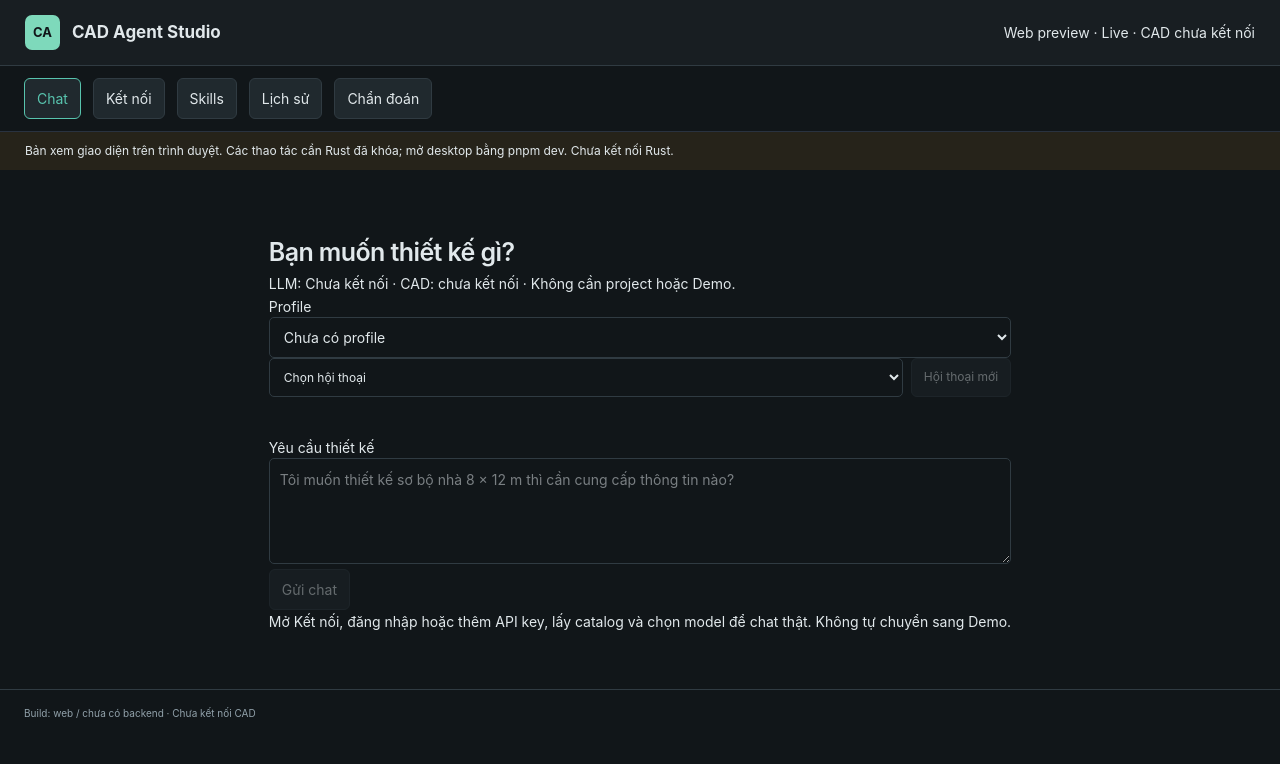
Test: opens connection and diagnostics before project and does not silently enter demo
Expected: the heading "Bạn muốn thiết kế gì?" is shown, x1=269 y1=237 x2=514 y2=267
Click the button "Kết nối": (129, 98) x1=93 y1=78 x2=165 y2=119
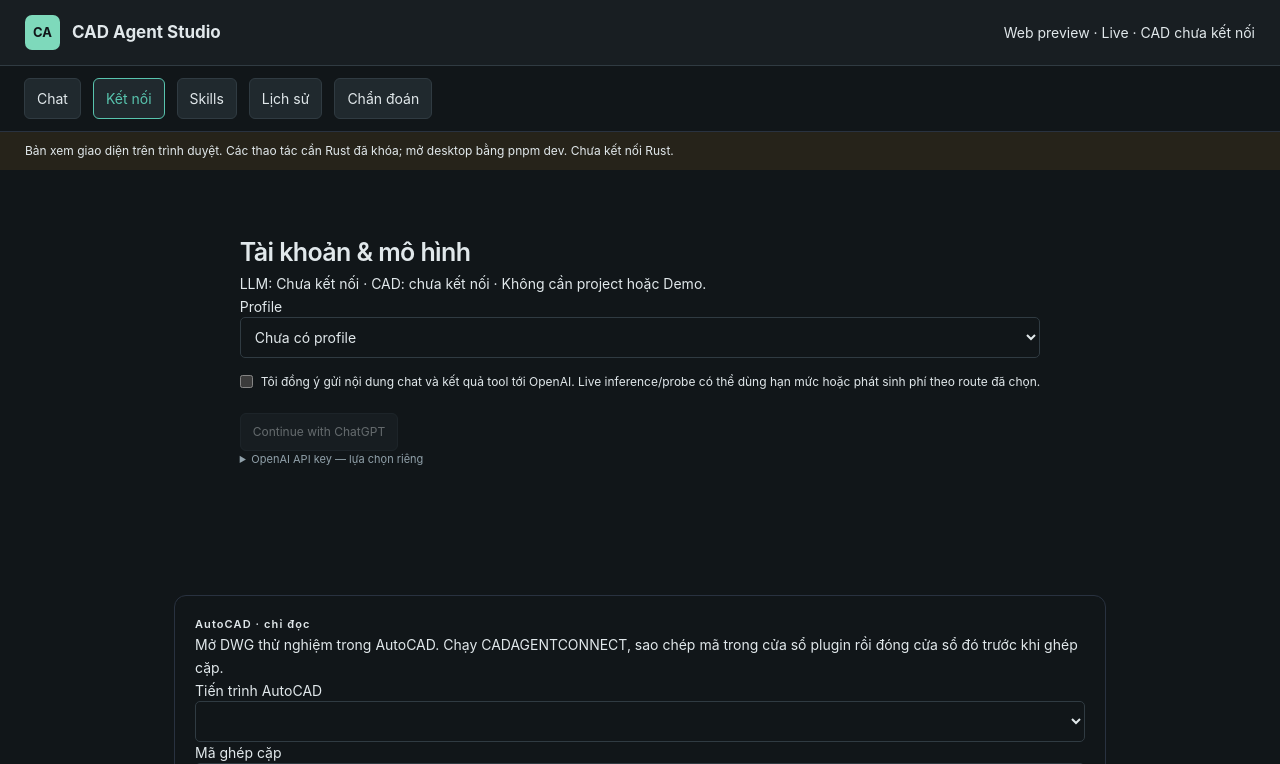
Expected: the button "Continue with ChatGPT" is disabled, x1=240 y1=413 x2=398 y2=451
Click the button "Chẩn đoán": (383, 98) x1=334 y1=78 x2=432 y2=119
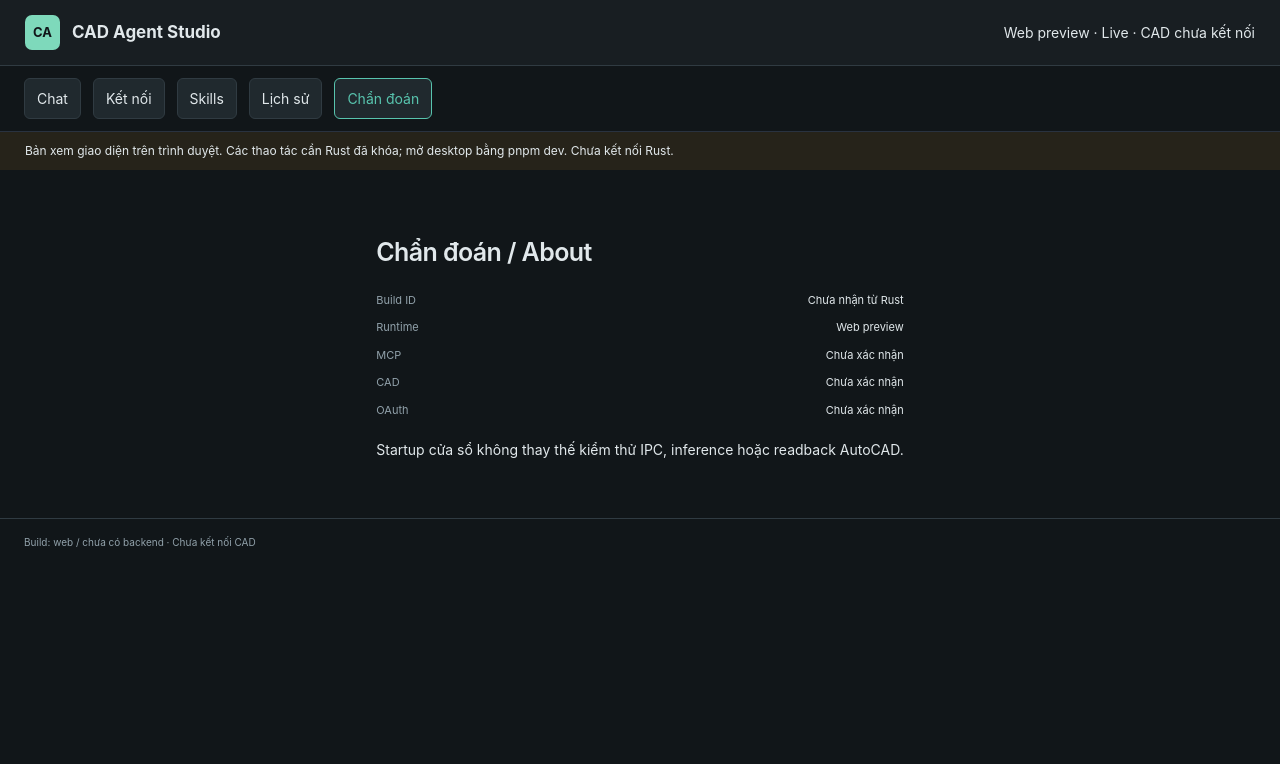
Expected: the text "Build ID" is shown, x1=376 y1=293 x2=416 y2=307
